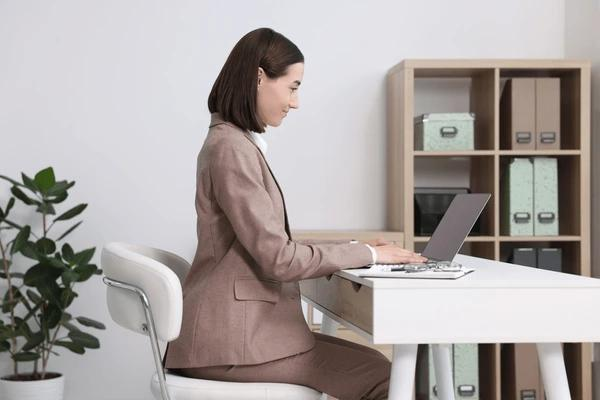Good Sitting Posture: (162, 26, 429, 399)
